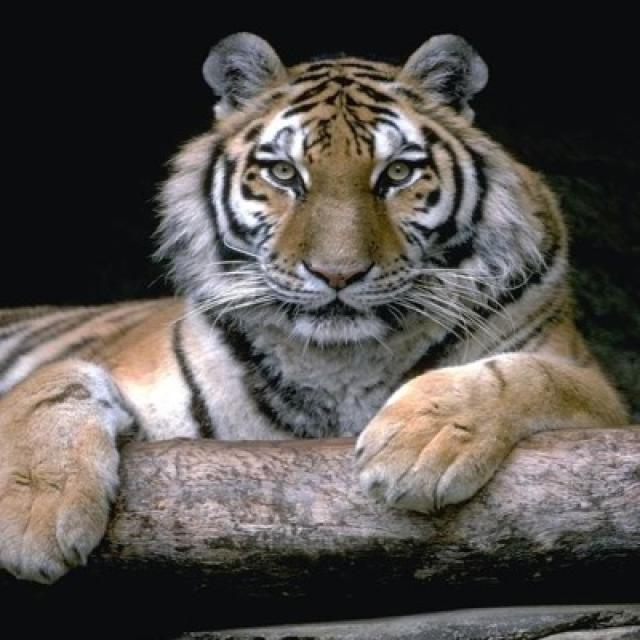Tiger: (0, 27, 634, 587)
